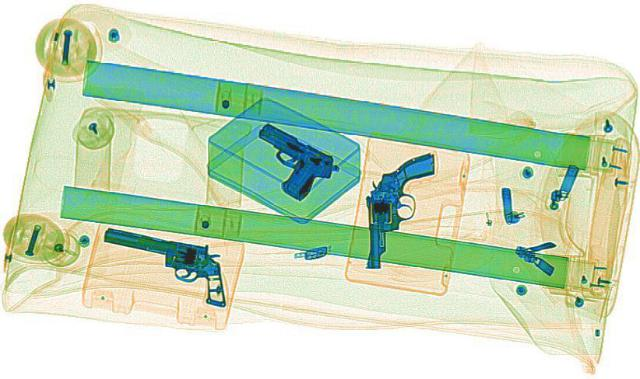Gun: (69, 222, 259, 305), (211, 120, 355, 199), (363, 150, 435, 269)
